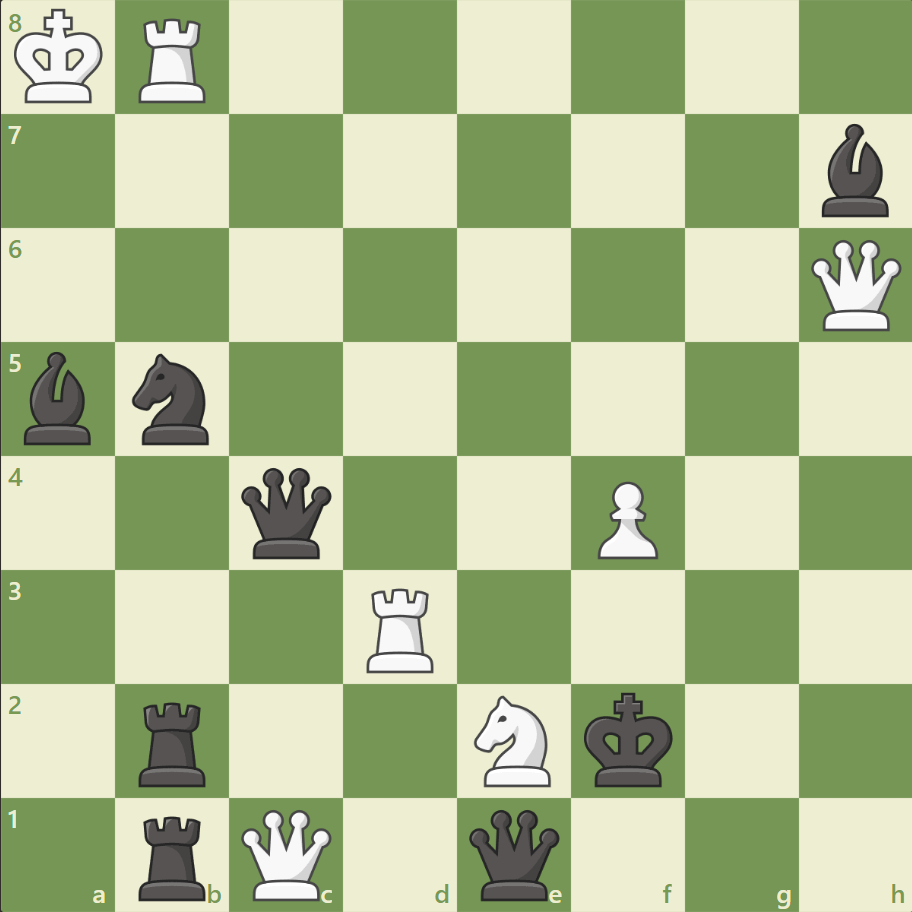K: (11, 4, 111, 112)
N: (465, 688, 562, 791)
P: (588, 473, 662, 564)
Q: (805, 236, 904, 335), (237, 804, 336, 903)
R: (133, 12, 215, 109), (360, 579, 442, 676)
b: (812, 120, 896, 222), (17, 347, 101, 449)
k: (579, 685, 679, 793)
n: (124, 348, 222, 450)
q: (237, 463, 336, 562), (464, 804, 563, 903)
r: (133, 806, 215, 904), (133, 693, 215, 790)
